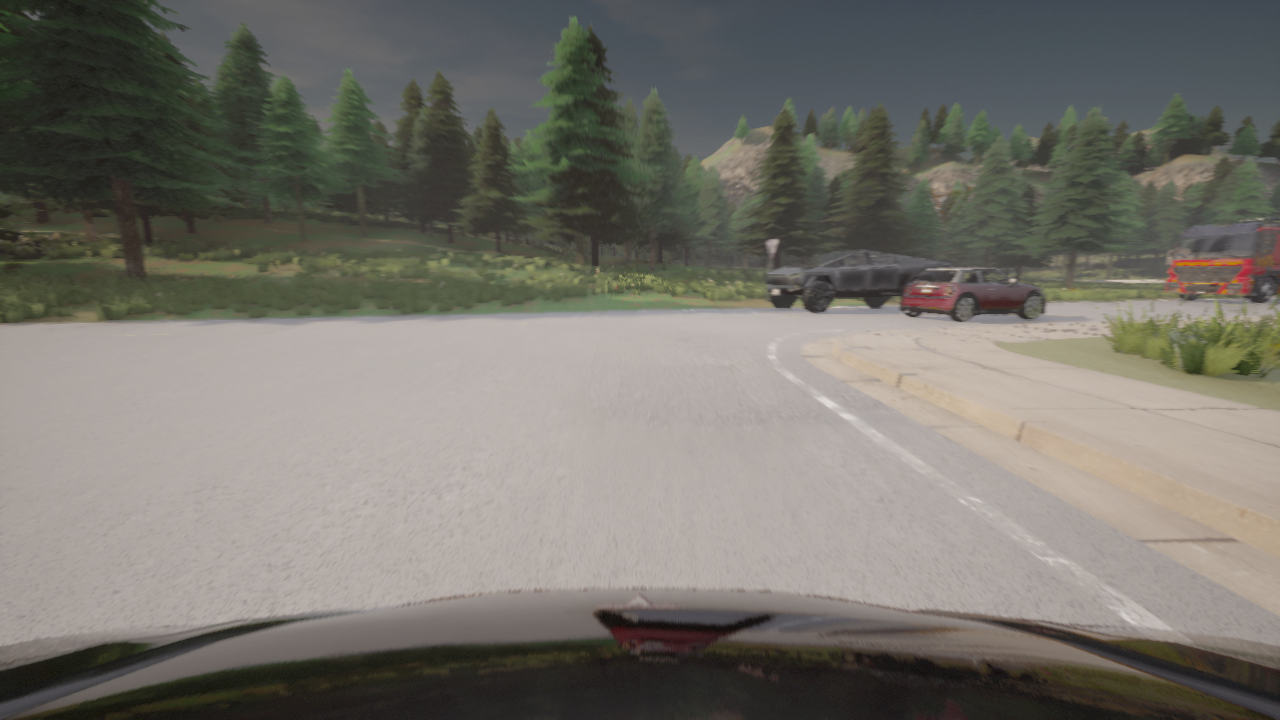cyclist: (0, 588, 1279, 719), (765, 249, 950, 313), (1164, 217, 1279, 302), (900, 267, 1045, 321)
